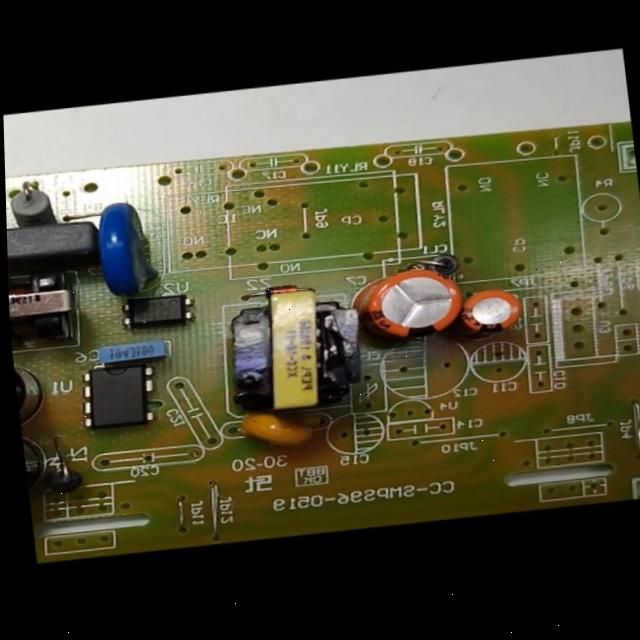Cap1: (346, 256, 474, 352)
Cap2: (451, 280, 531, 342)
Cap3: (13, 346, 61, 427)
Cap4: (21, 418, 64, 508)
MOSFET: (71, 350, 170, 441)
Mov: (86, 194, 169, 306)
Resistor: (5, 173, 56, 230)
Transformer: (215, 270, 383, 434), (8, 258, 97, 354)
